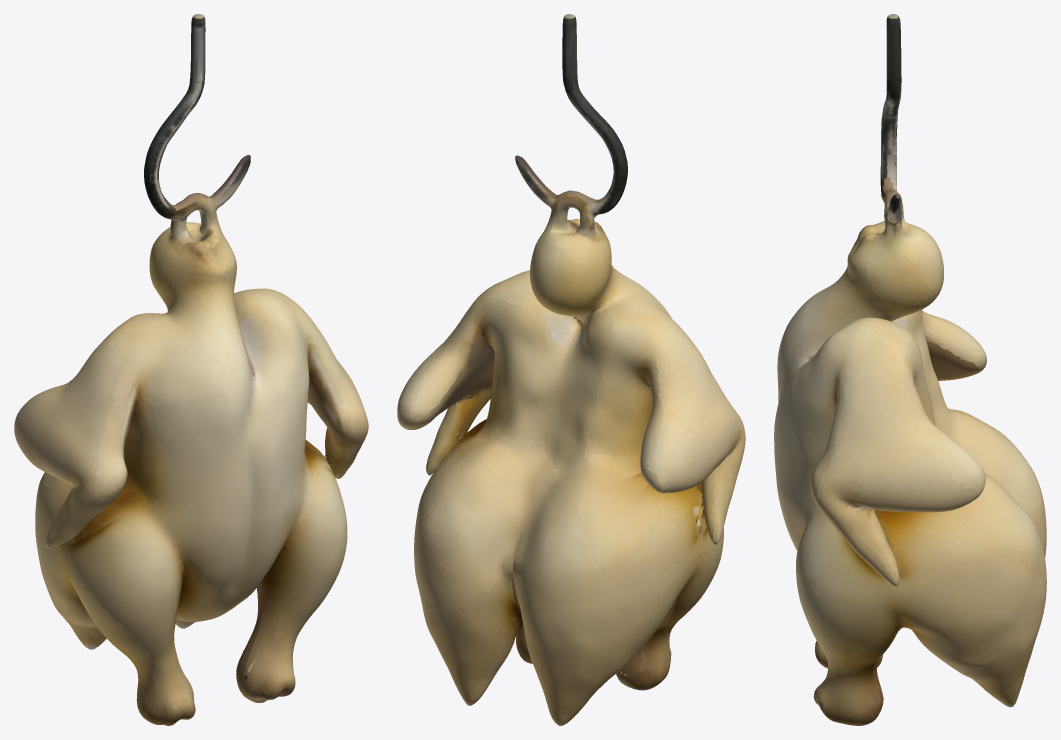
The picture shows the model from 3 angles, left to right: view 1: azimuth 30°, elevation 25°; view 2: azimuth 150°, elevation 25°; view 3: azimuth 270°, elevation 25°; orthographic projection.
Parts seen in each view (by area): view 1: tmp7tsxetni.ply; view 2: tmp7tsxetni.ply; view 3: tmp7tsxetni.ply.
Boxes of the visible parts, x1=… form: tmp7tsxetni.ply: x1=14, y1=14, x2=368, y2=725; tmp7tsxetni.ply: x1=397, y1=14, x2=745, y2=725; tmp7tsxetni.ply: x1=774, y1=14, x2=1046, y2=725.
Bounding box in the file's own units: 89.56 × 196 × 70.37.
Materials: 1 (1 with a texture image).
